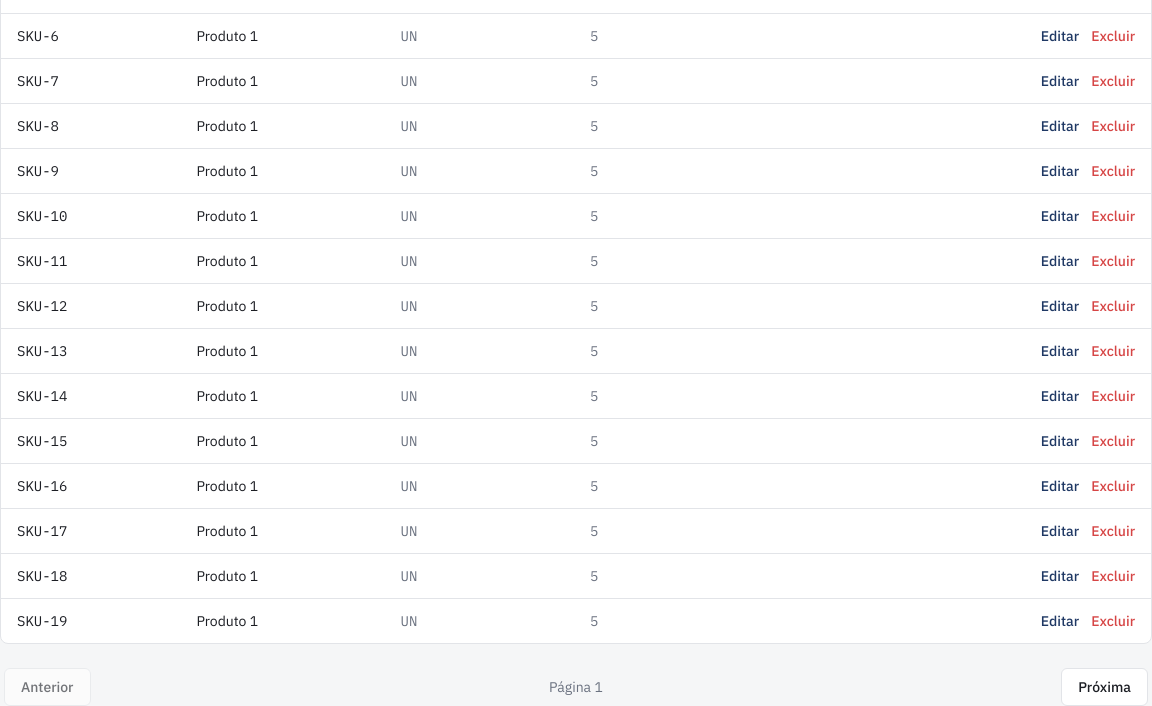
Test: ProdutosListPage › clicar em 'Próxima' busca a página seguinte com os parâmetros certos
(page scrolled)
Click the button "Próxima".
click(1105, 687)  # box [1061, 668, 1148, 705]
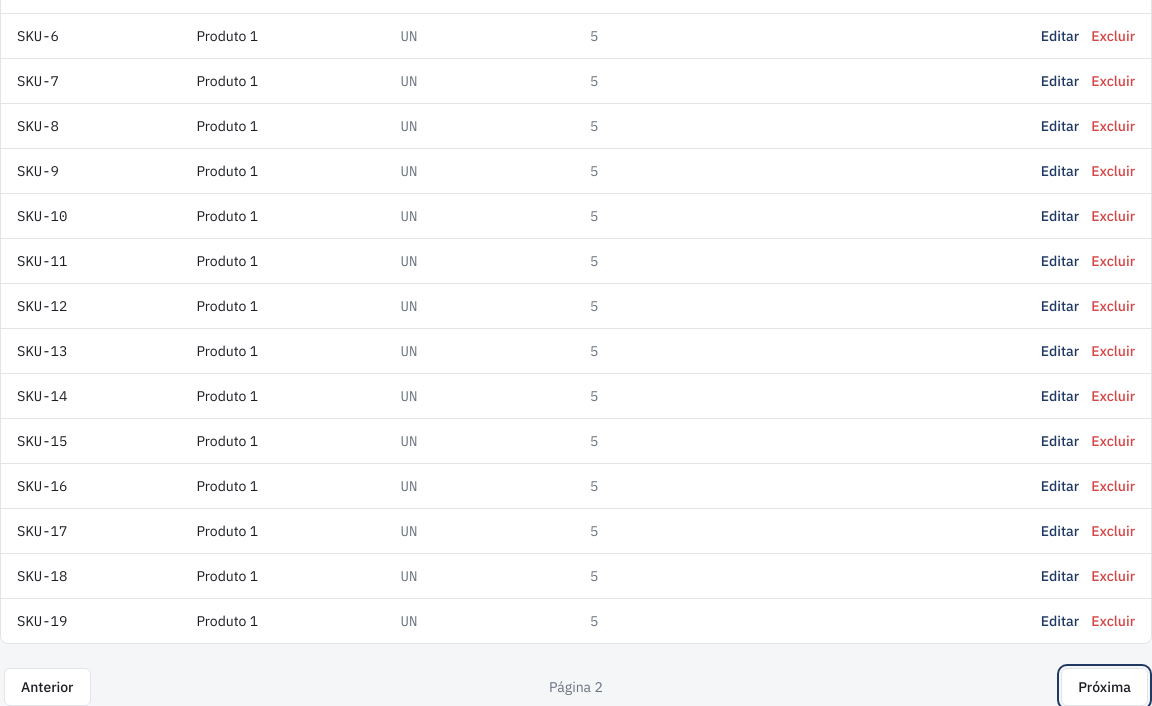
expect the text "Página 2" is shown: met, box [549, 677, 603, 697]
